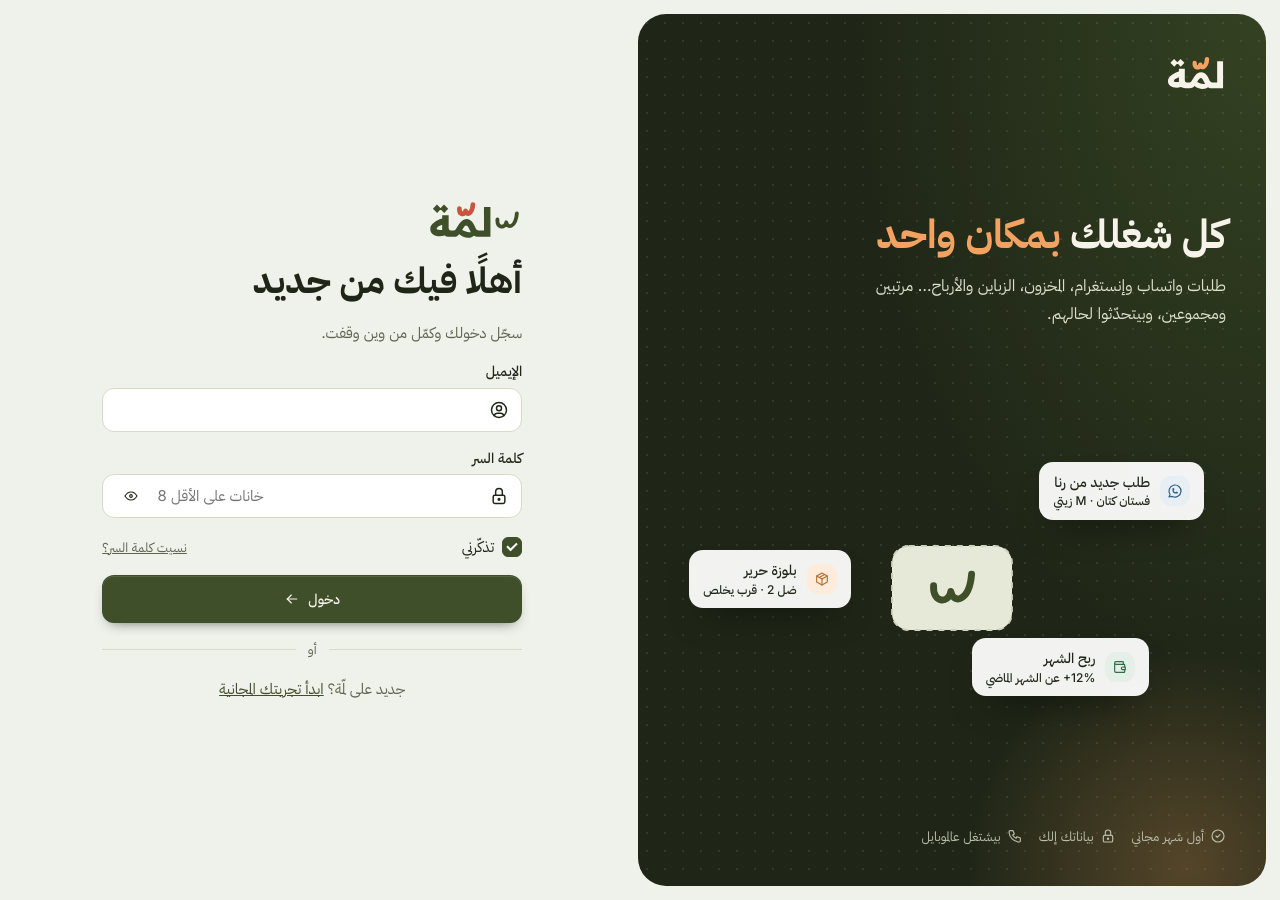
it: authentication pages › wrong credentials and lockout show the server's Arabic message
This screenshot has width=1280, height=900.
Type "reem@example.com" into the field labelled "الإيميل" at (298, 410), box [115, 389, 481, 431]
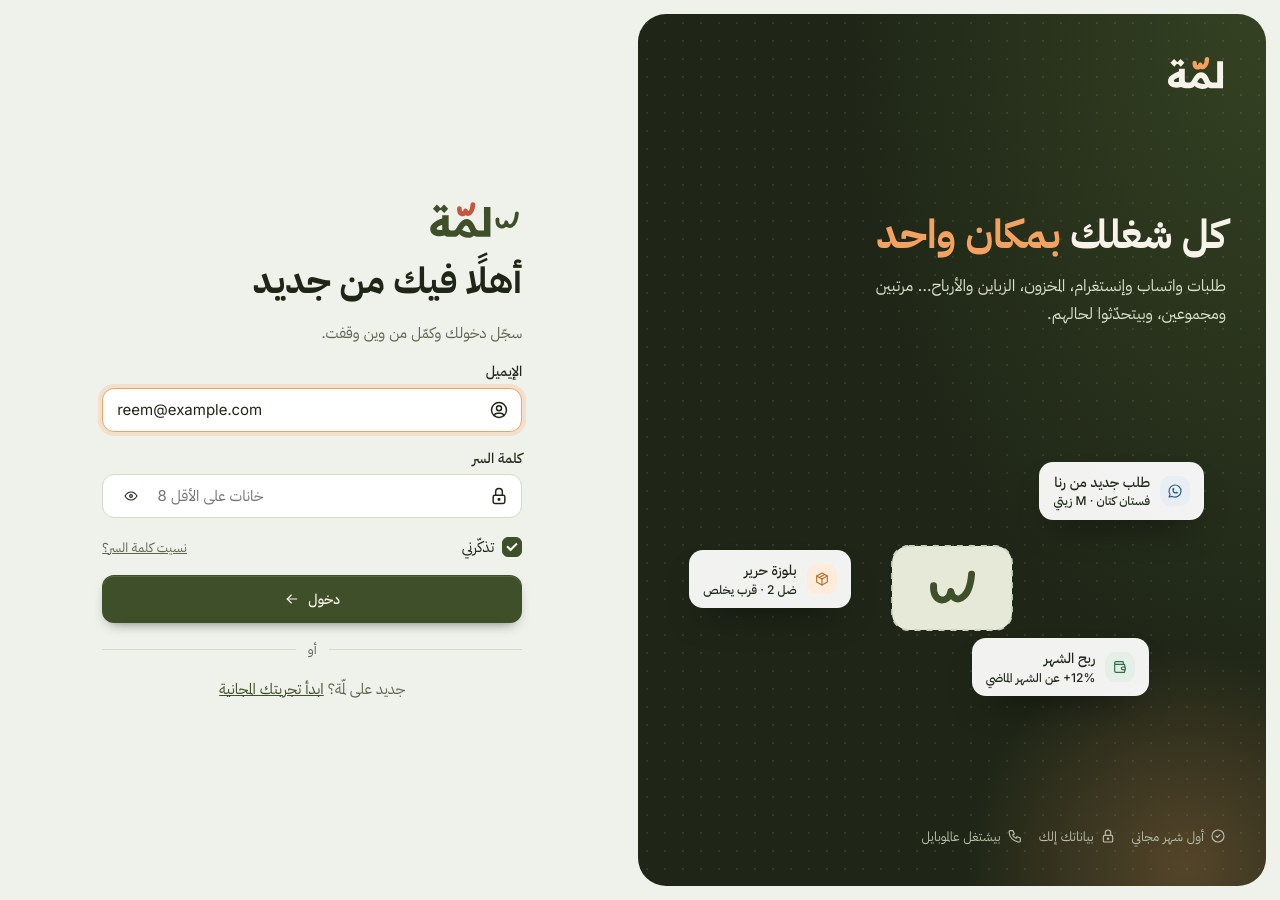
Type "wrongpass1" into the password field labelled "كلمة السر" at (318, 496), box [155, 475, 481, 517]
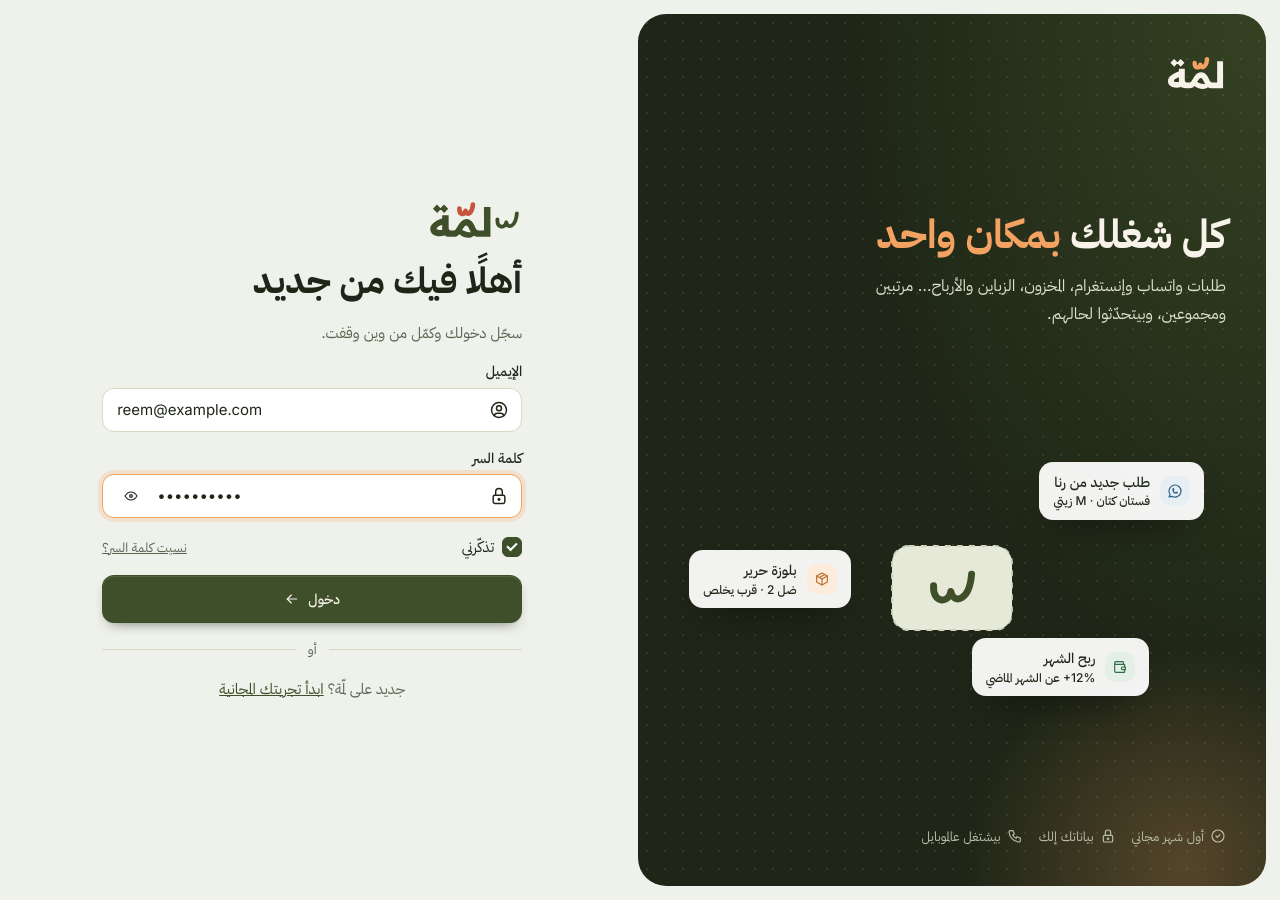
Click the button "دخول" at (312, 599), box [102, 575, 522, 623]
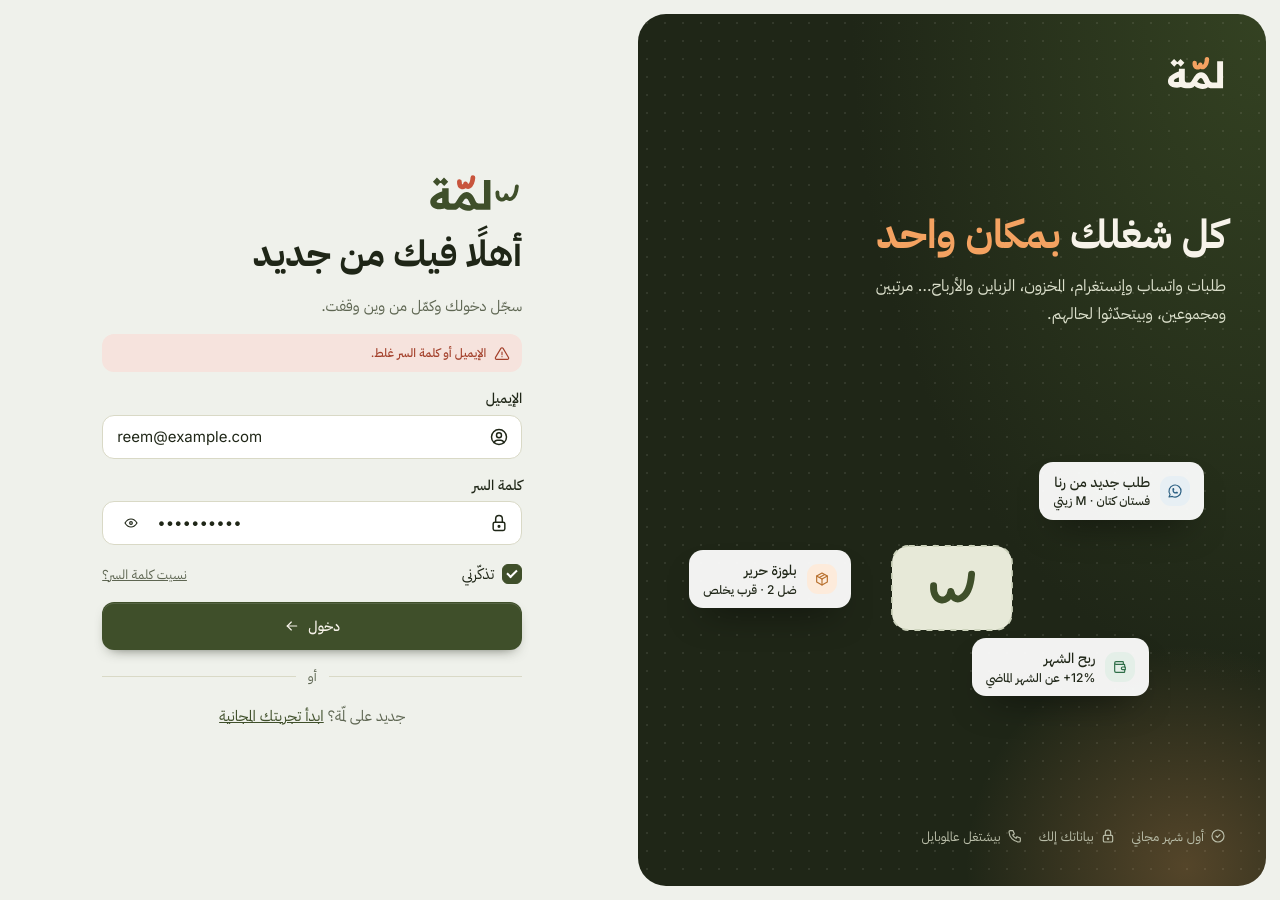
Result: the text "الإيميل أو كلمة السر غلط." is shown at [371, 344, 486, 362]
Click the button "دخول" at (312, 626), box [102, 602, 522, 650]
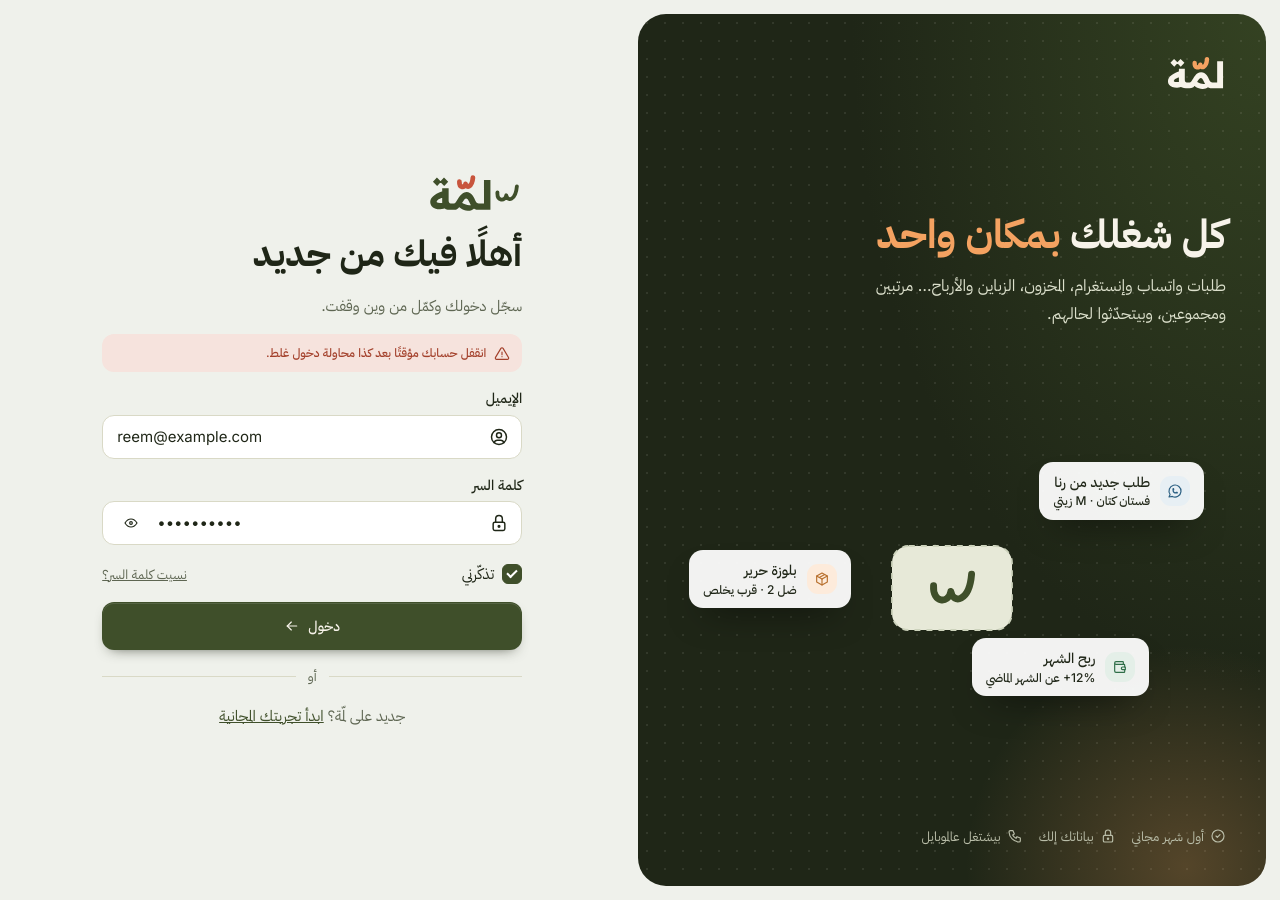
Result: the text "انقفل حسابك مؤقتًا بعد كذا محاولة دخول غلط." is shown at [266, 344, 486, 362]
